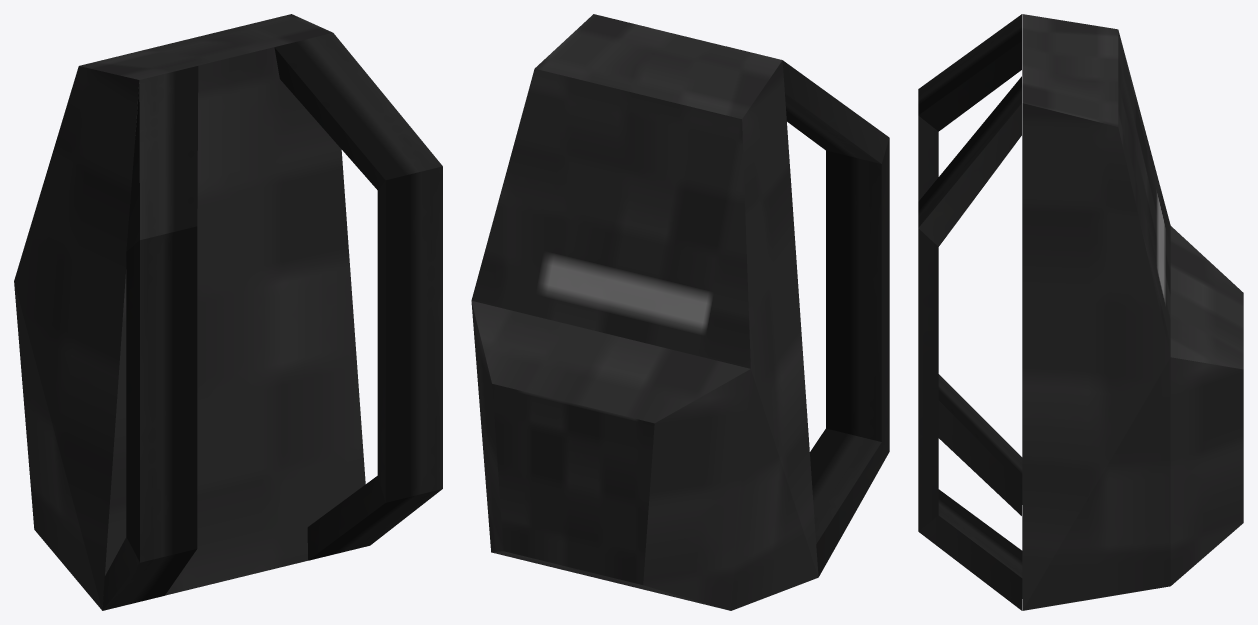
File: BackPack.fbx
The picture shows the model from 3 angles, left to right: view 1: azimuth 30°, elevation 25°; view 2: azimuth 150°, elevation 25°; view 3: azimuth 270°, elevation 25°; orthographic projection. The views are drawn at different scales.
Visible parts, largest first — view 1: Maya_File_Assets:TexturedAssetsCurrent:backpack; view 2: Maya_File_Assets:TexturedAssetsCurrent:backpack; view 3: Maya_File_Assets:TexturedAssetsCurrent:backpack.
Boxes of the visible parts, x1,y1,x2,y2 form: Maya_File_Assets:TexturedAssetsCurrent:backpack: (14, 14, 442, 610); Maya_File_Assets:TexturedAssetsCurrent:backpack: (471, 14, 889, 610); Maya_File_Assets:TexturedAssetsCurrent:backpack: (918, 14, 1243, 610).
Size of the model in its own units: 0.3301 by 0.5334 by 0.3203.
